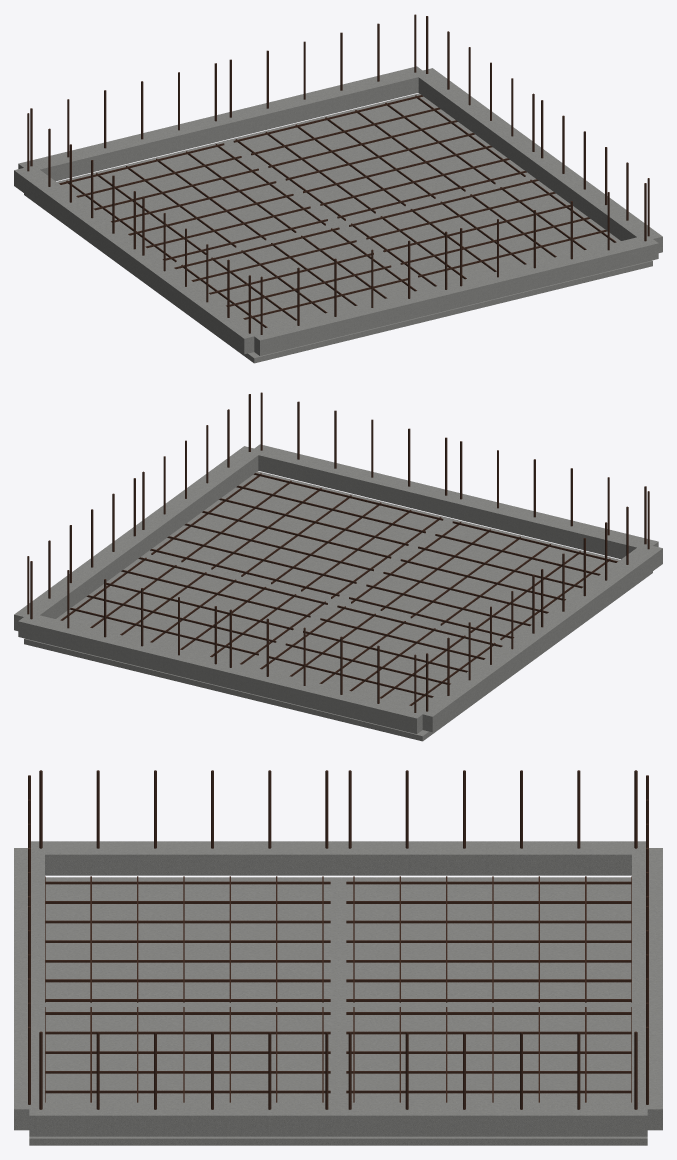
Rendered from house_1.glb.
3 views of the same model, one above another, from view 1: azimuth 30°, elevation 25°; view 2: azimuth 150°, elevation 25°; view 3: azimuth 270°, elevation 25° (orthographic). The views are drawn at different scales.
Parts seen in each view (by area): view 1: Cube.045, Cube.015, Cube.030, Cube, Cube.060, Cube.061, Cube.063, Cube.062, Cube.064, Cube.065, Cube.067, Cube.066 (+9 smaller); view 2: Cube.030, Cube, Cube.045, Cube.015, Cube.062, Cube.063, Cube.061, Cube.060, Cube.065, Cube.064, Cube.066, Cube.067 (+9 smaller); view 3: Cube, Cube.015, Cube.030, Cube.045, Cube.067, Cube.066, Cube.064, Cube.065, Cube.061, Cube.063, Cube.060, Cube.062 (+24 smaller).
Part boxes in pixels (x1,y1,x2,y2): Cube.045: (223, 93, 533, 225); Cube.015: (24, 141, 337, 278); Cube.030: (339, 177, 652, 314); Cube: (139, 225, 453, 363); Cube.060: (250, 283, 459, 355); Cube.061: (448, 235, 658, 307); Cube.063: (218, 66, 427, 138); Cube.062: (18, 115, 228, 181); Cube.064: (129, 249, 258, 354); Cube.065: (14, 167, 148, 269); Cube.067: (413, 68, 547, 172); Cube.066: (528, 152, 662, 252); Cube.030: (143, 471, 453, 603); Cube: (339, 519, 652, 656); Cube.045: (24, 555, 337, 692); Cube.015: (223, 603, 537, 741); Cube.062: (217, 661, 424, 733); Cube.063: (18, 615, 228, 685); Cube.061: (249, 444, 458, 516); Cube.060: (448, 493, 658, 559); Cube.065: (413, 627, 547, 732); Cube.064: (528, 546, 662, 647); Cube.066: (129, 446, 262, 550); Cube.067: (14, 530, 148, 630); Cube: (45, 877, 338, 1007); Cube.015: (338, 877, 631, 1007); Cube.030: (29, 1008, 338, 1145); Cube.045: (338, 1008, 647, 1145); Cube.067: (338, 1102, 647, 1136); Cube.066: (29, 1102, 338, 1136); Cube.064: (31, 841, 338, 875); Cube.065: (338, 841, 645, 875); Cube.061: (14, 978, 44, 1130); Cube.063: (632, 978, 662, 1130); Cube.060: (14, 848, 44, 978); Cube.062: (632, 848, 662, 978).
Size of the model in its own units: 8.4 by 1.62 by 8.4.
Materials: 24 (24 with a texture image).
